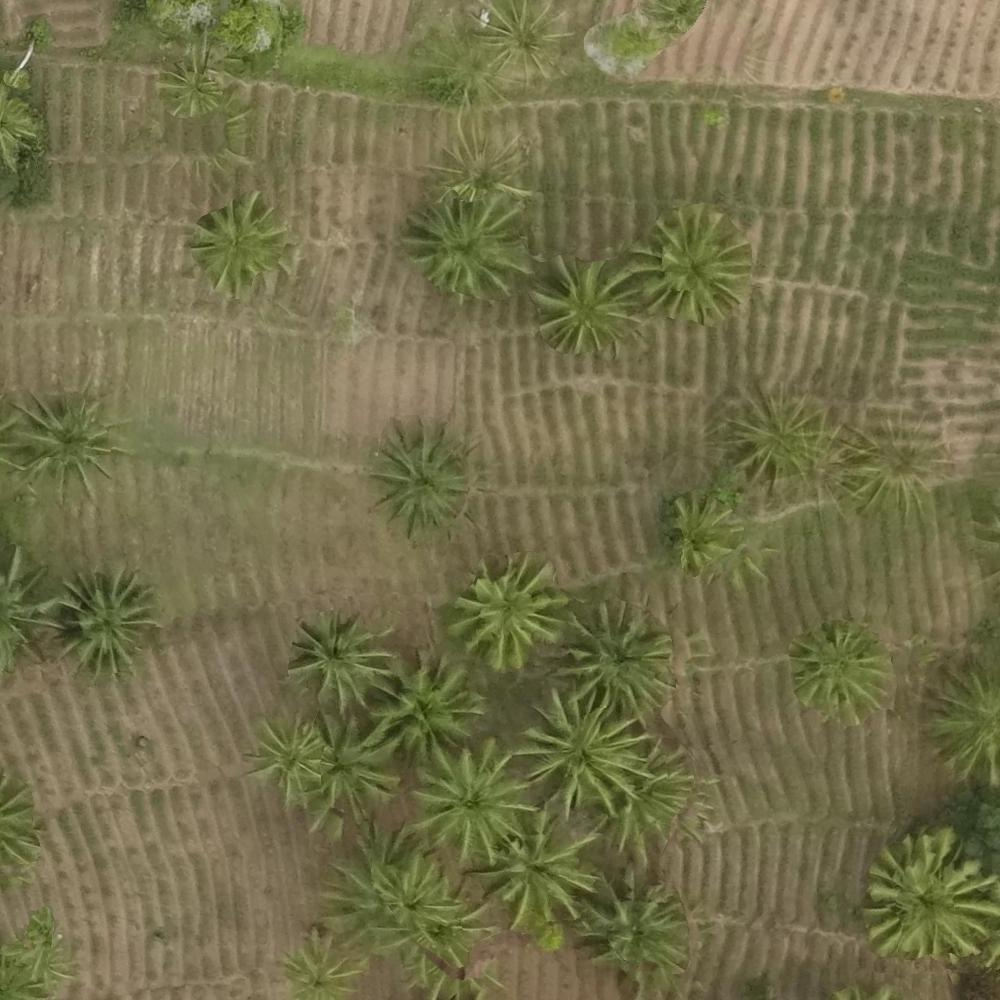Palm: (866, 833, 993, 959), (564, 597, 676, 719), (412, 745, 530, 860), (1, 386, 118, 497), (522, 690, 634, 804), (482, 816, 592, 932), (367, 655, 484, 763), (411, 193, 527, 300), (453, 561, 562, 672), (371, 427, 484, 529), (535, 254, 643, 357), (582, 868, 687, 973), (644, 213, 745, 317), (722, 389, 825, 488), (311, 712, 400, 824), (58, 573, 155, 674), (797, 624, 895, 719), (291, 616, 388, 707), (190, 204, 282, 291), (467, 6, 568, 79), (247, 713, 324, 802), (662, 496, 740, 571), (281, 932, 367, 1000), (369, 868, 449, 935)
